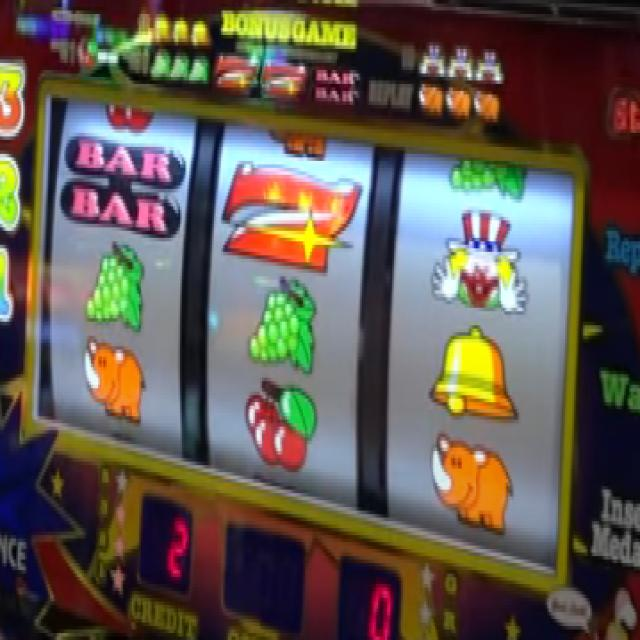bar: (63, 131, 179, 238), (314, 66, 360, 107)
bell: (428, 326, 518, 422), (151, 12, 172, 47), (171, 14, 189, 47), (190, 16, 208, 47)
cherry: (247, 375, 316, 474), (104, 100, 158, 131)
clown: (428, 210, 530, 318), (419, 38, 447, 76), (447, 42, 475, 80), (476, 50, 503, 86)
display: (45, 91, 568, 577)
elephant: (432, 432, 514, 538), (82, 332, 146, 422), (268, 125, 330, 160), (444, 88, 473, 116), (473, 94, 501, 120), (419, 84, 444, 113)
grape: (248, 273, 320, 370), (85, 239, 144, 329), (446, 154, 532, 202), (150, 47, 172, 83), (168, 51, 190, 81), (188, 56, 209, 85)
z: (222, 163, 358, 271), (261, 56, 308, 102), (215, 52, 259, 93)
